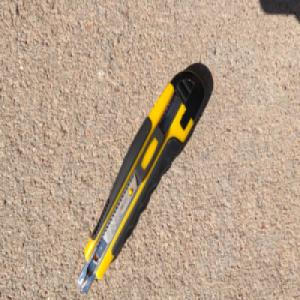Cutter: (76, 68, 206, 296)
